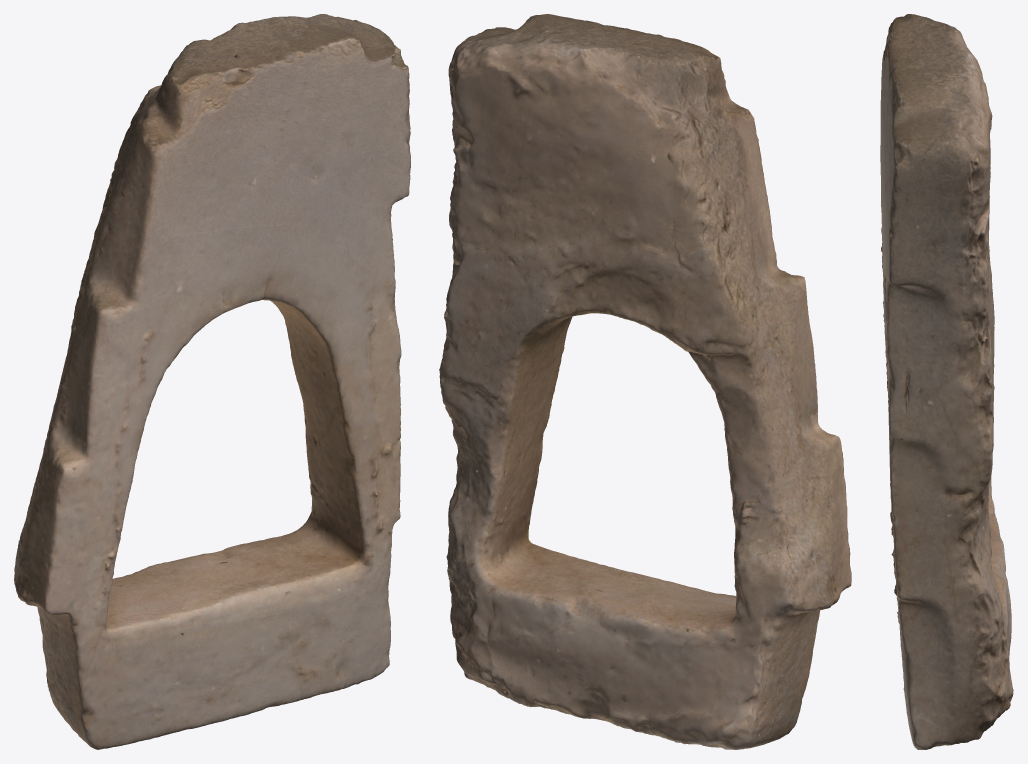
Rendered from QAT0040_SF1064_LP.glb.
3 renders of one model, left to right at view 1: azimuth 30°, elevation 25°; view 2: azimuth 150°, elevation 25°; view 3: azimuth 270°, elevation 25°, orthographic. The views are drawn at different scales.
Visible parts, largest first — view 1: qat0040_SF1064_hp.001; view 2: qat0040_SF1064_hp.001; view 3: qat0040_SF1064_hp.001.
Boxes of the visible parts, bbox=[...] form: qat0040_SF1064_hp.001: bbox=[14, 14, 410, 749]; qat0040_SF1064_hp.001: bbox=[439, 14, 851, 749]; qat0040_SF1064_hp.001: bbox=[880, 14, 1013, 749].
Size of the model in its own units: 0.7666 by 1.31 by 0.2447.
Materials: 1 (1 with a texture image).
